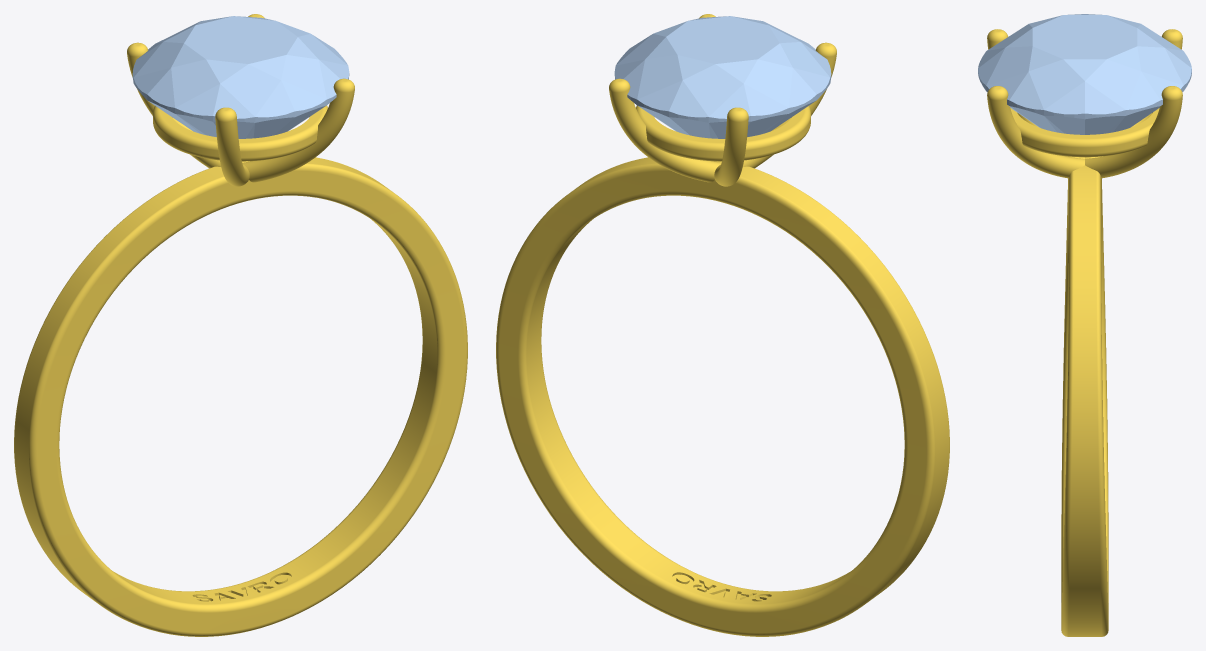
3 views of the same model, side by side, from view 1: azimuth 30°, elevation 25°; view 2: azimuth 150°, elevation 25°; view 3: azimuth 270°, elevation 25° (orthographic).
Visible parts, largest first — view 1: N-ER-1.3.3dm, Diamond_Round; view 2: N-ER-1.3.3dm, Diamond_Round; view 3: N-ER-1.3.3dm, Diamond_Round.
Boxes of the visible parts, bbox=[...] form: N-ER-1.3.3dm: bbox=[14, 14, 467, 636]; Diamond_Round: bbox=[132, 16, 349, 138]; N-ER-1.3.3dm: bbox=[496, 14, 949, 636]; Diamond_Round: bbox=[614, 16, 831, 138]; N-ER-1.3.3dm: bbox=[987, 29, 1182, 636]; Diamond_Round: bbox=[978, 14, 1191, 134].
Bounding box in the file's own units: 2.39 × 3.04 × 1.02.
